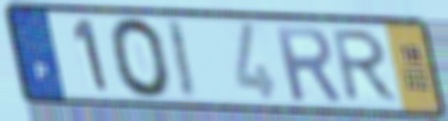1: (70, 17, 111, 96)
4: (233, 19, 280, 106)
I: (163, 16, 200, 102)
O: (107, 15, 175, 102)
R: (270, 22, 345, 104), (329, 27, 401, 104)
